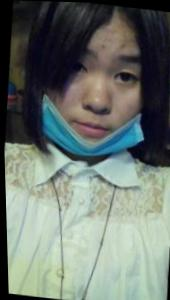WRONG: (36, 37, 157, 158)
